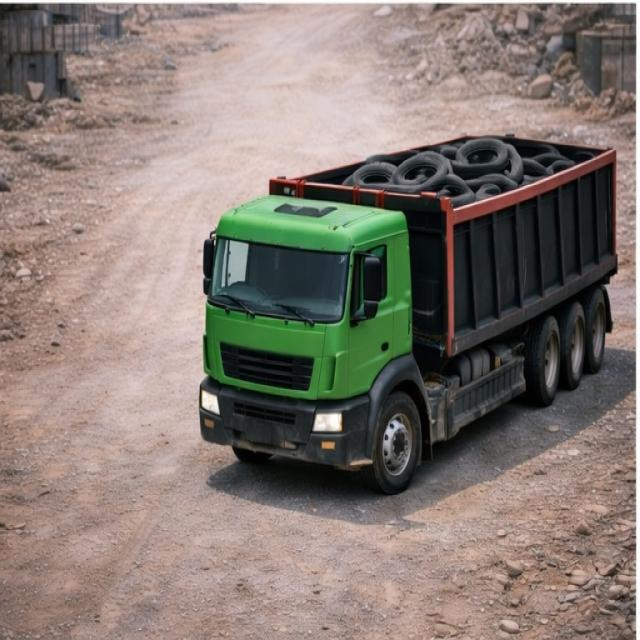trailer: (276, 126, 615, 215)
truck: (197, 107, 633, 478)
